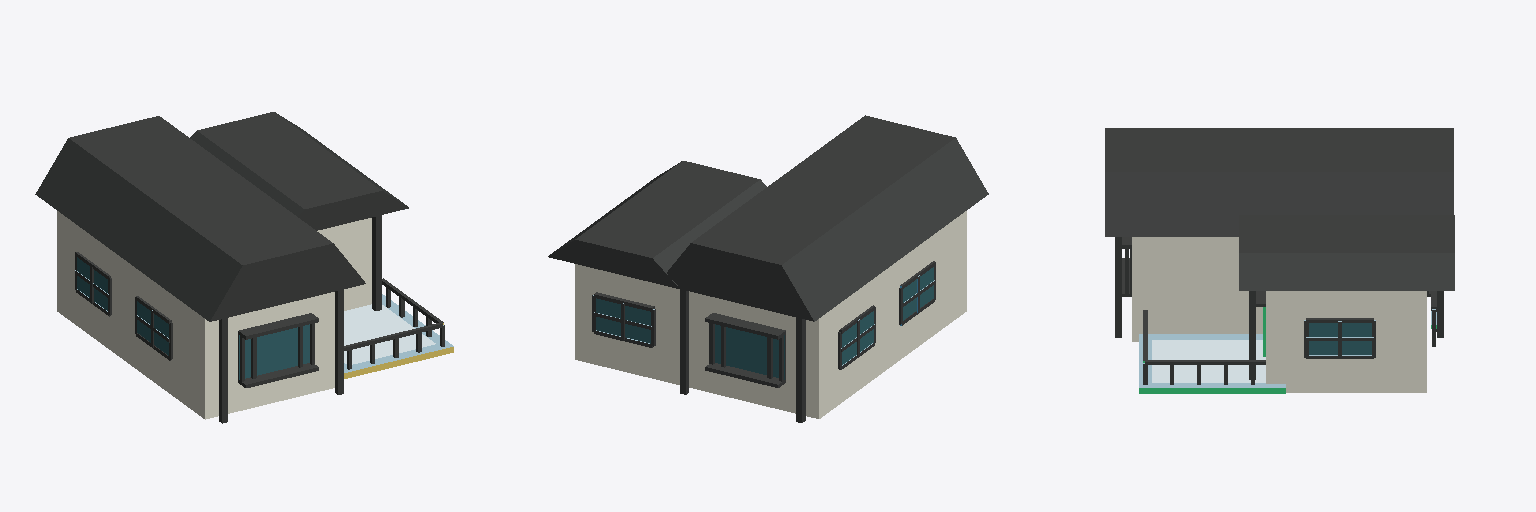
The picture shows the model from 3 angles: view 1: azimuth 30°, elevation 25°; view 2: azimuth 150°, elevation 25°; view 3: azimuth 270°, elevation 25°; orthographic projection.
Visible parts, largest first — view 1: cube; view 2: cube; view 3: cube.
Part boxes in pixels (left/top/right/bottom): cube: left=35, top=112, right=453, bottom=423; cube: left=548, top=115, right=988, bottom=422; cube: left=1105, top=128, right=1454, bottom=393.
Bounding box in the file's own units: 1.44 × 0.8125 × 1.63.
Materials: 1 (1 with a texture image).